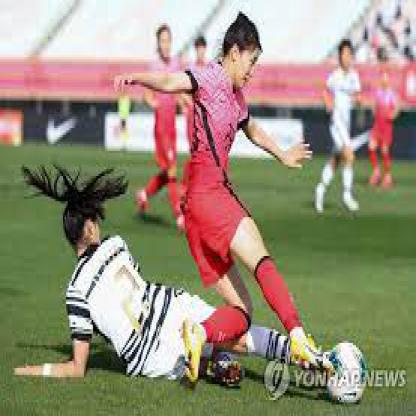Fall_Down: (11, 193, 344, 385)
